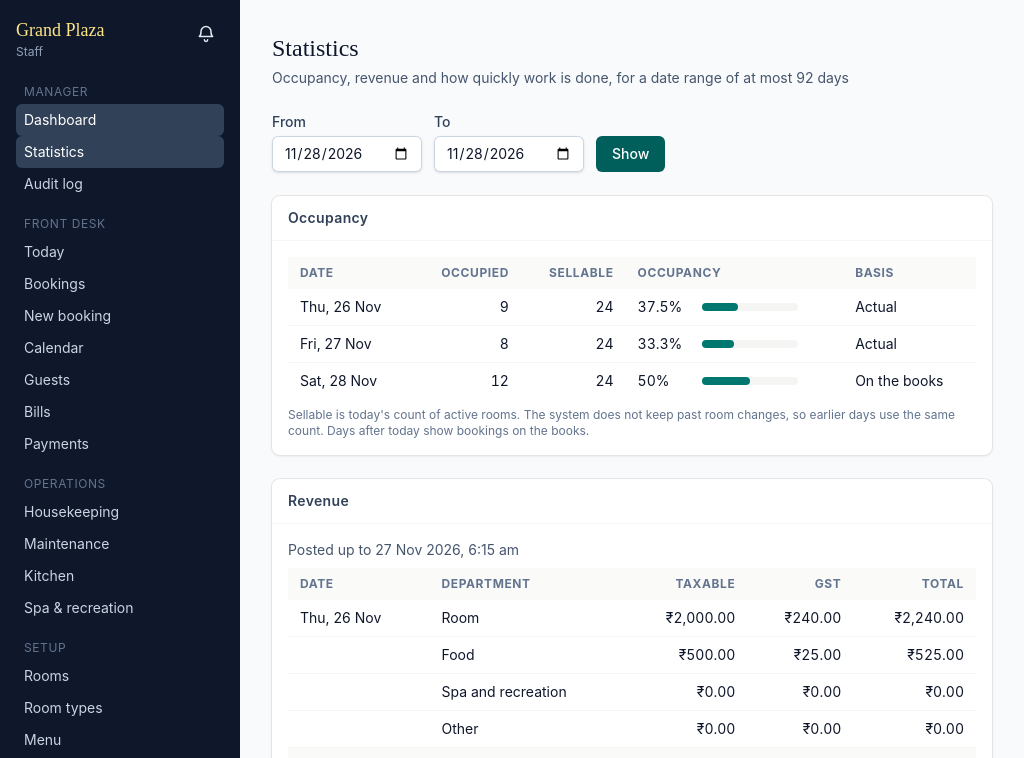
Test case: the statistics page › blocks a range that runs backwards
The width and height of the screenshot is (1024, 758).
Type "2026-11-20" into the date field labelled "From" at [347, 154], box [272,136,422,172]
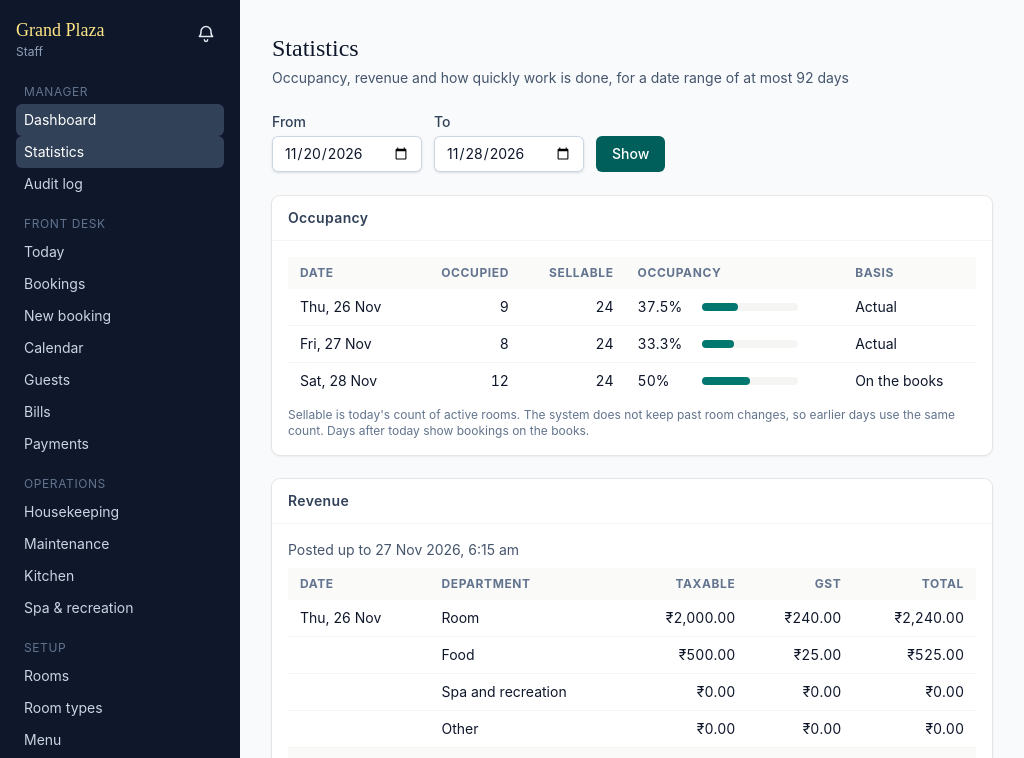
Type "2026-11-10" into the date field labelled "To" at [509, 154], box [434,136,584,172]
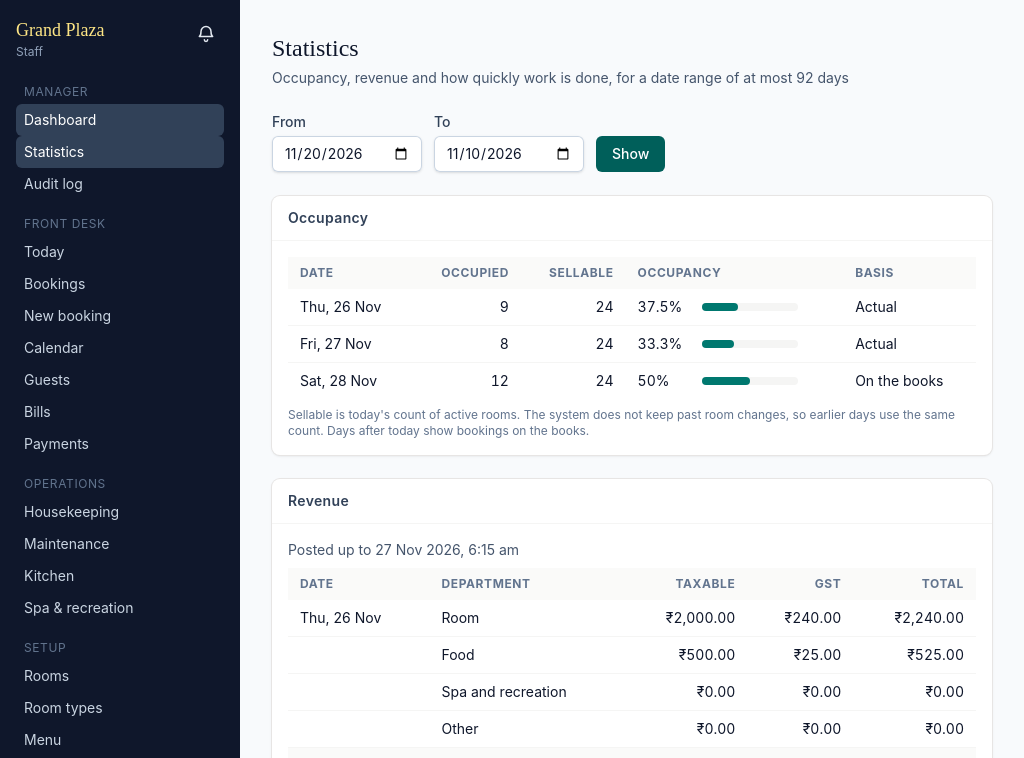
Click the button "Show" at [631, 154], box [596,136,665,172]
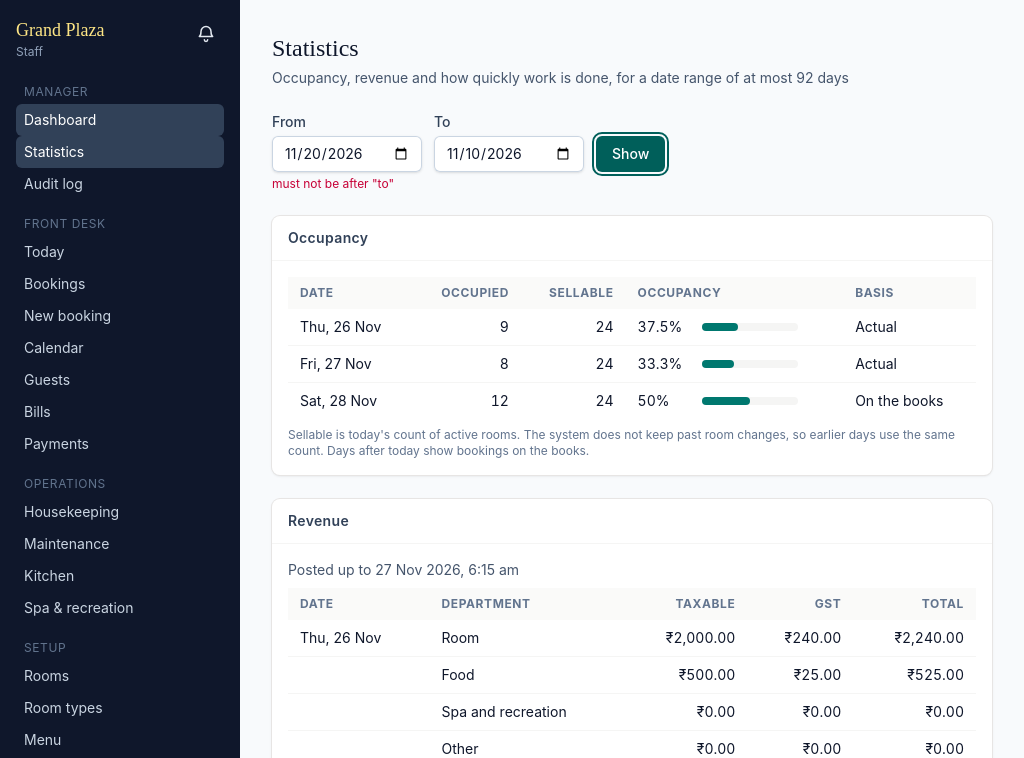
Expected: the text "must not be after \"to\"" is shown, [272,176,394,191]
